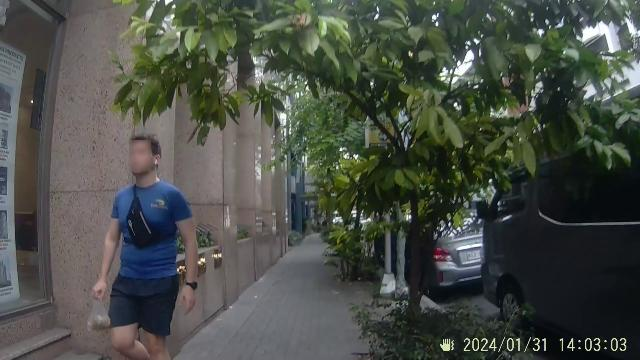tree: (394, 146, 460, 344)
